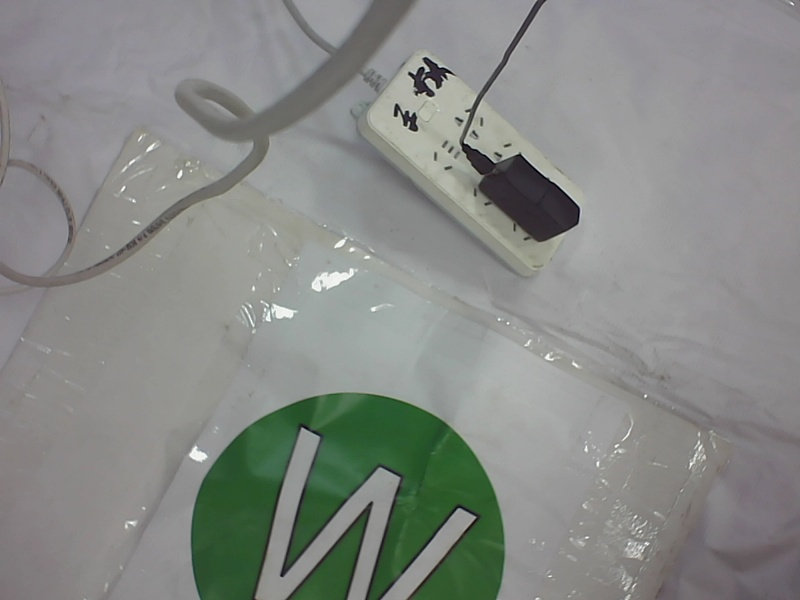areaB: (178, 382, 507, 598)
